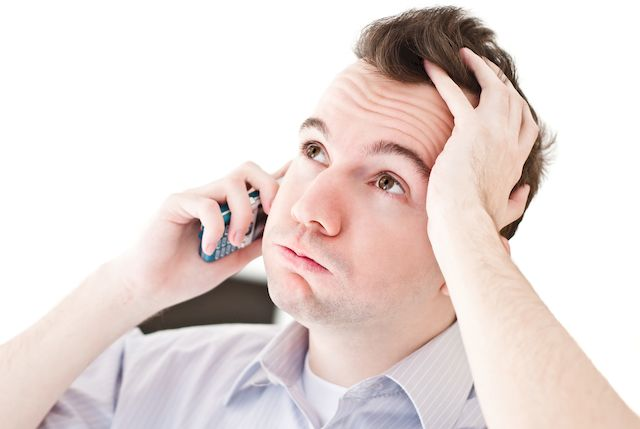phone: (196, 172, 280, 263)
talk: (144, 103, 431, 326)
